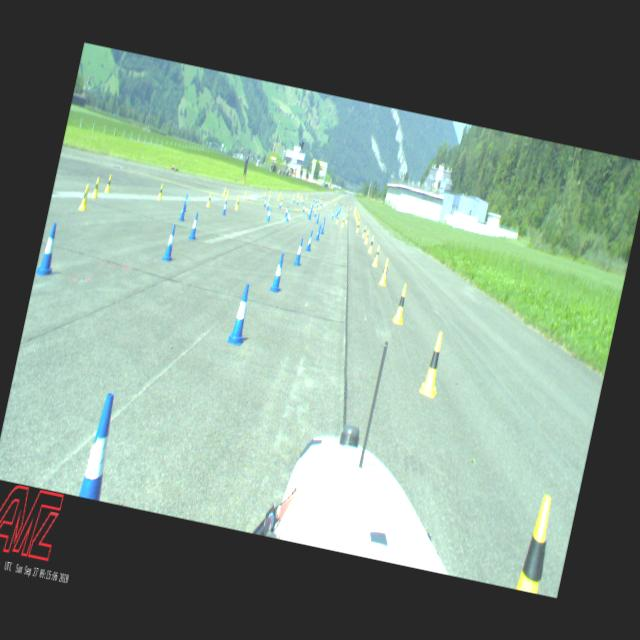blue_cone: (78, 391, 121, 500), (226, 282, 255, 346), (35, 222, 63, 276), (268, 251, 288, 292), (161, 223, 179, 262), (292, 237, 306, 266), (188, 211, 200, 240), (304, 230, 314, 252), (178, 200, 188, 220), (314, 223, 322, 240), (221, 199, 228, 215), (320, 220, 326, 234), (266, 207, 272, 221), (284, 208, 290, 222), (284, 205, 288, 216), (320, 217, 324, 228), (316, 214, 320, 224), (266, 200, 270, 210), (308, 210, 312, 220)
yellow_cone: (516, 493, 558, 593), (418, 329, 449, 398), (392, 282, 411, 324), (378, 256, 390, 286), (78, 183, 91, 210), (371, 244, 381, 267), (91, 176, 101, 198), (367, 235, 375, 253), (104, 174, 112, 192), (156, 183, 164, 200), (205, 192, 212, 207), (234, 197, 240, 210), (364, 229, 369, 244), (340, 216, 346, 227), (224, 190, 230, 200), (362, 224, 366, 237), (355, 222, 360, 232), (336, 214, 340, 224), (222, 186, 226, 196)
